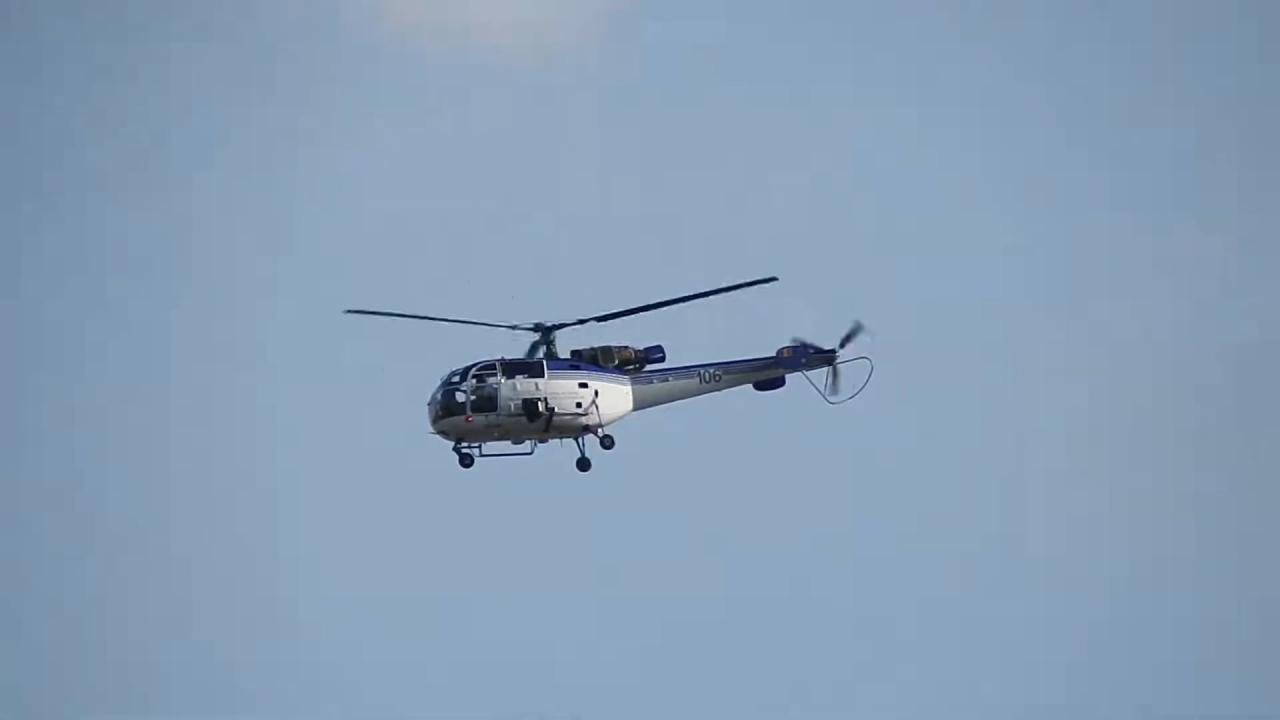Helicopter: (328, 265, 894, 482)
